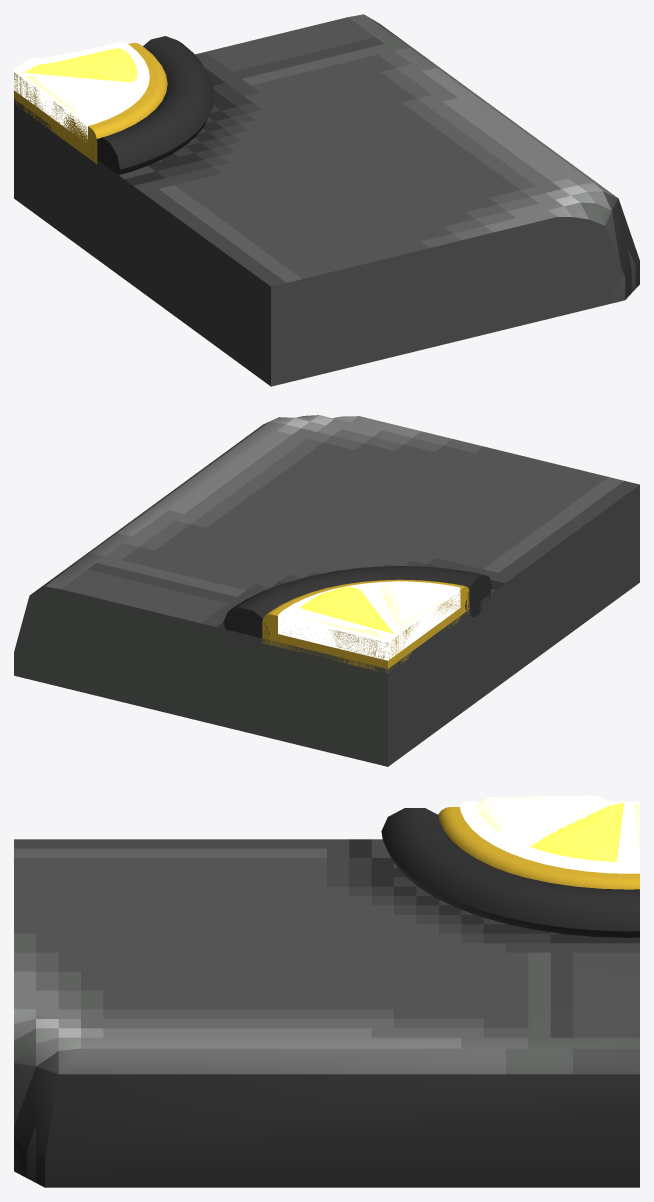
File: pineapple_205.glb
3 renders of one model, top to bottom at view 1: azimuth 30°, elevation 25°; view 2: azimuth 150°, elevation 25°; view 3: azimuth 270°, elevation 25°, orthographic. The views are drawn at different scales.
Visible parts, largest first — view 1: pineapple_205_pwing, pineapple_205_pwing_socket+1, pineapple_205_pwing_lamp+1_rind, pineapple_205_pwing_lamp+1_pith, pineapple_205_pwing_lamp+1_juice7, pineapple_205_pwing_lamp+1_juice6; view 2: pineapple_205_pwing, pineapple_205_pwing_lamp+1_pith, pineapple_205_pwing_socket+1, pineapple_205_pwing_lamp+1_rind, pineapple_205_pwing_lamp+1_juice7, pineapple_205_pwing_lamp+1_juice6; view 3: pineapple_205_pwing, pineapple_205_pwing_socket+1, pineapple_205_pwing_lamp+1_pith, pineapple_205_pwing_lamp+1_rind, pineapple_205_pwing_lamp+1_juice6, pineapple_205_pwing_lamp+1_juice7.
Part boxes in pixels (<box>): pineapple_205_pwing: <box>14,14,639,386</box>; pineapple_205_pwing_socket+1: <box>92,36,214,175</box>; pineapple_205_pwing_lamp+1_rind: <box>14,43,167,163</box>; pineapple_205_pwing_lamp+1_pith: <box>14,41,149,138</box>; pineapple_205_pwing_lamp+1_juice7: <box>20,48,136,82</box>; pineapple_205_pwing_lamp+1_juice6: <box>26,75,127,116</box>; pineapple_205_pwing: <box>14,415,639,766</box>; pineapple_205_pwing_lamp+1_pith: <box>278,581,460,660</box>; pineapple_205_pwing_socket+1: <box>223,566,491,646</box>; pineapple_205_pwing_lamp+1_rind: <box>262,579,469,673</box>; pineapple_205_pwing_lamp+1_juice7: <box>299,586,393,633</box>; pineapple_205_pwing_lamp+1_juice6: <box>378,581,453,629</box>; pineapple_205_pwing: <box>14,839,639,1187</box>; pineapple_205_pwing_socket+1: <box>381,808,639,937</box>; pineapple_205_pwing_lamp+1_pith: <box>460,801,639,873</box>; pineapple_205_pwing_lamp+1_rind: <box>438,807,639,889</box>; pineapple_205_pwing_lamp+1_juice6: <box>475,795,609,838</box>; pineapple_205_pwing_lamp+1_juice7: <box>529,802,624,861</box>.
Bounding box in the file's own units: 23.98 × 8.6 × 27.98.
